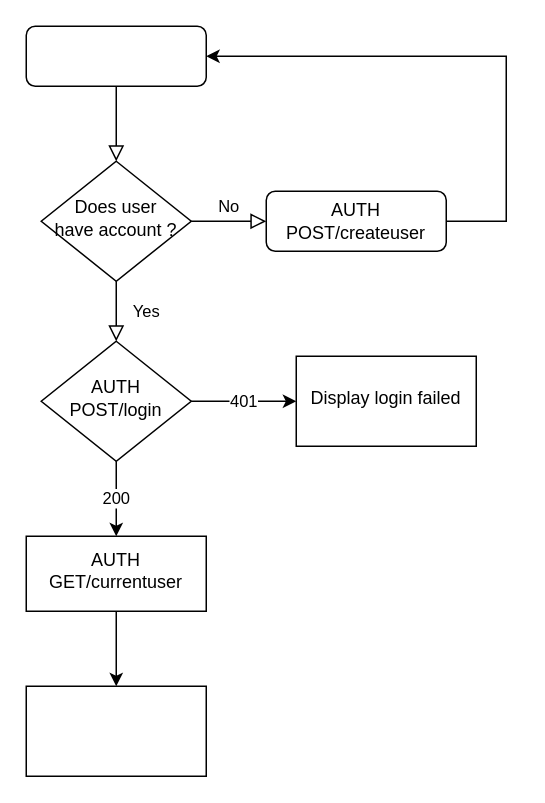
The diagram is 545 pixels wide and 803 high, and some of its shapes have lost their labels. The shapes that lost their labels are listed below. From the top down, each one's box as (x1, y1, x2, y2) in pixels, then its label:
(25, 25, 206, 86): User enters app
(25, 685, 206, 776): Display Main Page
